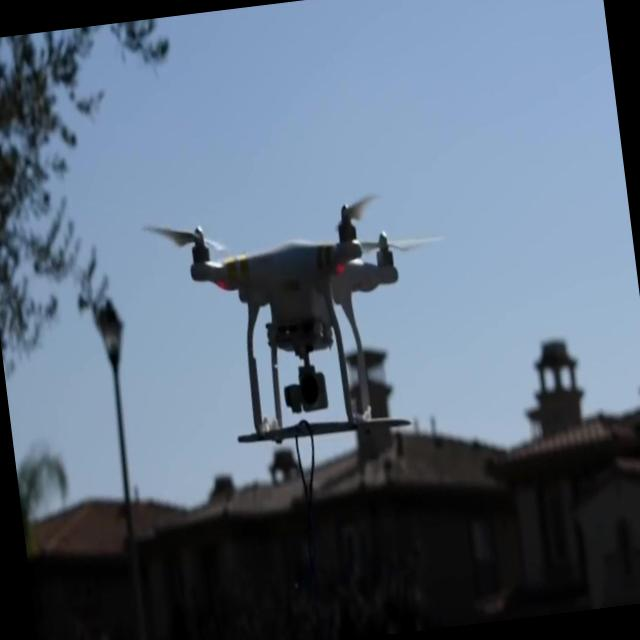drone: (173, 198, 419, 462)
